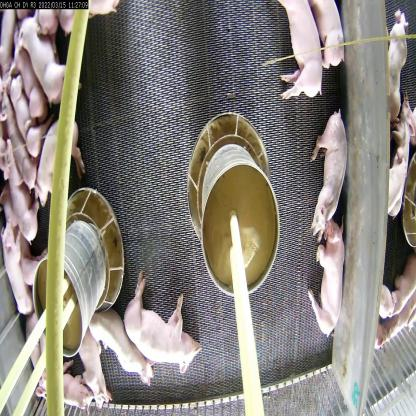Pig: (119, 270, 207, 382), (24, 105, 88, 214), (270, 0, 323, 110), (94, 300, 156, 391), (17, 13, 74, 110), (0, 130, 45, 244), (306, 218, 348, 336), (311, 108, 348, 240), (0, 212, 33, 324), (0, 88, 37, 184), (9, 44, 48, 131), (302, 0, 346, 77), (76, 319, 113, 410), (386, 111, 415, 221), (18, 297, 46, 402), (389, 11, 412, 125), (8, 76, 40, 157), (50, 358, 91, 414)
